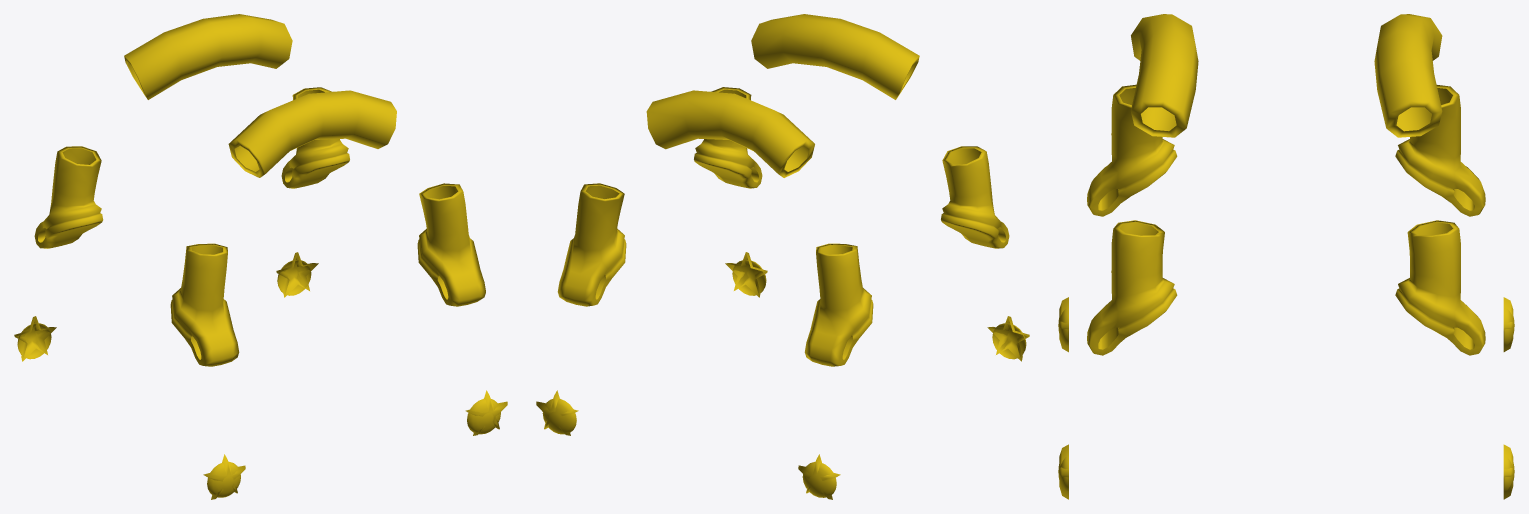
Rendered from Bag_handel.fbx.
The picture shows the model from 3 angles, left to right: view 1: azimuth 30°, elevation 25°; view 2: azimuth 150°, elevation 25°; view 3: azimuth 270°, elevation 25°; orthographic projection. The views are drawn at different scales.
Visible parts, largest first — view 1: Bag_handel; view 2: Bag_handel; view 3: Bag_handel.
Boxes of the visible parts, x1,y1,x2,y2 form: Bag_handel: [14, 14, 507, 499]; Bag_handel: [536, 14, 1029, 499]; Bag_handel: [1058, 14, 1514, 499].
Bounding box in the file's own units: 8.6 × 9.11 × 9.68.
